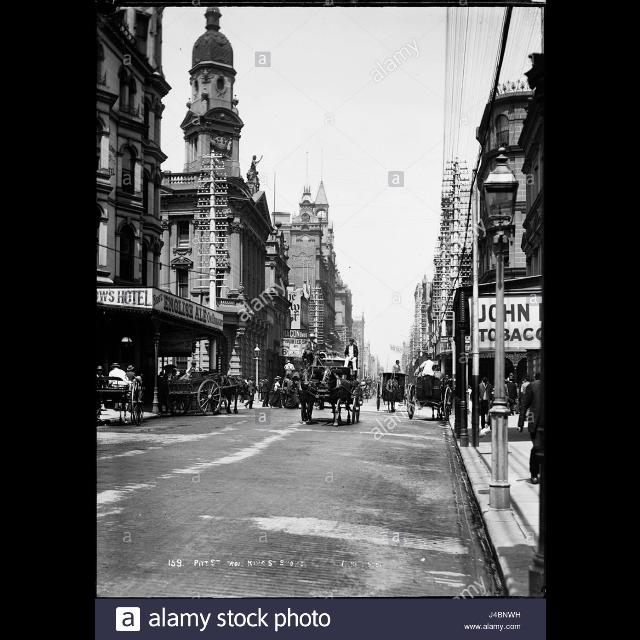head: (482, 373, 491, 383), (96, 366, 102, 376), (348, 339, 354, 345), (309, 335, 315, 341), (111, 363, 117, 369), (127, 366, 133, 372), (190, 362, 196, 368), (524, 377, 530, 383), (292, 376, 298, 382), (521, 376, 527, 382), (248, 378, 254, 382), (276, 377, 280, 383), (396, 360, 400, 366), (426, 356, 432, 360), (158, 372, 164, 376), (286, 361, 290, 365), (265, 376, 269, 380), (509, 377, 513, 381), (289, 378, 293, 382)
person: (474, 370, 494, 434), (107, 362, 135, 404), (176, 360, 200, 394), (94, 364, 106, 428), (514, 374, 532, 416), (283, 375, 305, 409), (303, 332, 321, 372), (520, 374, 534, 424), (342, 336, 358, 376), (418, 354, 436, 388), (156, 371, 170, 414), (123, 364, 143, 394), (505, 376, 519, 416), (268, 376, 284, 410), (283, 376, 297, 410), (242, 376, 255, 410), (282, 359, 296, 386), (260, 374, 270, 408), (392, 359, 402, 387)
